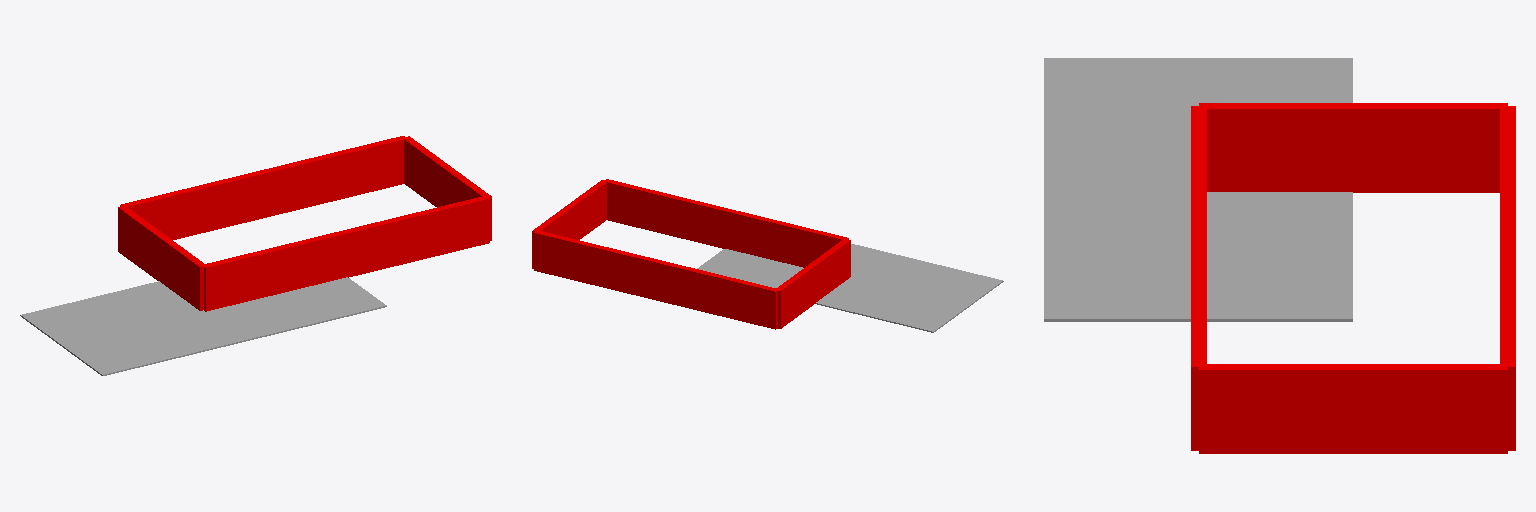
robot.urdf — arena:
<?xml version="1.0"?>
<robot name="arena">

  <!-- ROOT -->
  <link name="floor">
    <visual>
      <geometry>
        <box size="2 1 0.01"/>
      </geometry>
      <material name="gray">
        <color rgba="0.7 0.7 0.7 1"/>
      </material>
    </visual>
  </link>

  <!-- WALL 1 -->
  <link name="wall_1">
    <visual>
      <geometry>
        <box size="2 0.05 0.3"/>
      </geometry>
      <material name="red">
        <color rgba="1 0 0 1"/>
      </material>
    </visual>
  </link>

  <joint name="wall_1_joint" type="fixed">
    <parent link="floor"/>
    <child link="wall_1"/>
    <origin xyz="1 0 0.15"/>
  </joint>

  <!-- WALL 2 -->
  <link name="wall_2">
    <visual>
      <geometry>
        <box size="2 0.05 0.3"/>
      </geometry>
      <material name="red"/>
    </visual>
  </link>

  <joint name="wall_2_joint" type="fixed">
    <parent link="floor"/>
    <child link="wall_2"/>
    <origin xyz="1 1 0.15"/>
  </joint>

  <!-- WALL 3 -->
  <link name="wall_3">
    <visual>
      <geometry>
        <box size="0.05 1 0.3"/>
      </geometry>
      <material name="red"/>
    </visual>
  </link>

  <joint name="wall_3_joint" type="fixed">
    <parent link="floor"/>
    <child link="wall_3"/>
    <origin xyz="0 0.5 0.15"/>
  </joint>

  <!-- WALL 4 -->
  <link name="wall_4">
    <visual>
      <geometry>
        <box size="0.05 1 0.3"/>
      </geometry>
      <material name="red"/>
    </visual>
  </link>

  <joint name="wall_4_joint" type="fixed">
    <parent link="floor"/>
    <child link="wall_4"/>
    <origin xyz="2 0.5 0.15"/>
  </joint>

</robot>

--- Render facts (derived) ---
3 views of the same robot in one strip: view 1: azimuth 30°, elevation 25°; view 2: azimuth 150°, elevation 25°; view 3: azimuth 270°, elevation 25° (orthographic).
Robot: arena — 5 links, 4 joints (4 fixed); root link floor; default pose: all joints at 0.
Links seen in each view (by area): view 1: floor, wall_1, wall_2, wall_3, wall_4; view 2: floor, wall_2, wall_1, wall_3, wall_4; view 3: floor, wall_4, wall_3, wall_1, wall_2.
Link boxes in pixels (x1,y1,x2,y2): floor: (20, 277, 386, 375); wall_1: (202, 196, 489, 311); wall_2: (120, 136, 404, 239); wall_3: (118, 206, 203, 310); wall_4: (404, 136, 491, 240); floor: (697, 244, 1003, 332); wall_2: (534, 230, 777, 329); wall_1: (606, 179, 848, 267); wall_3: (775, 239, 850, 328); wall_4: (532, 180, 606, 268); floor: (1044, 58, 1352, 321); wall_4: (1199, 364, 1507, 453); wall_3: (1199, 103, 1507, 192); wall_1: (1191, 106, 1206, 450); wall_2: (1500, 106, 1515, 450).
Bounding box of the posed robot: 3.02 × 1.52 × 0.305 m (x, y, z).
Geometry: primitives only (box / cylinder / sphere), no mesh files.
